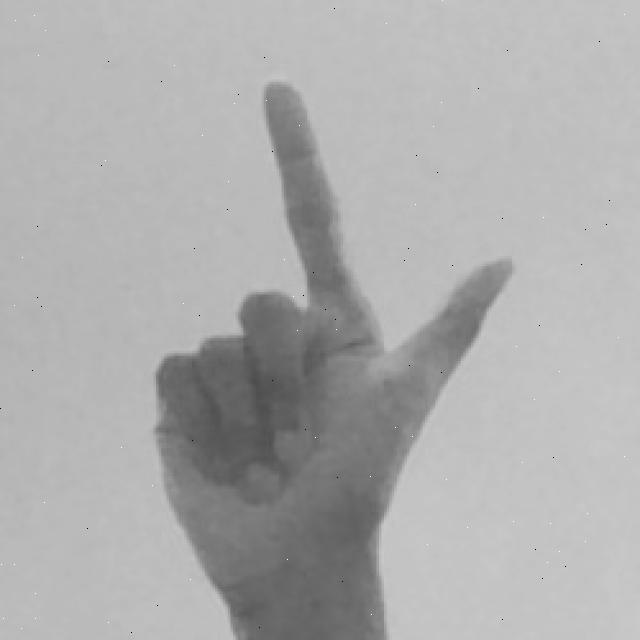L: (145, 73, 521, 640)
